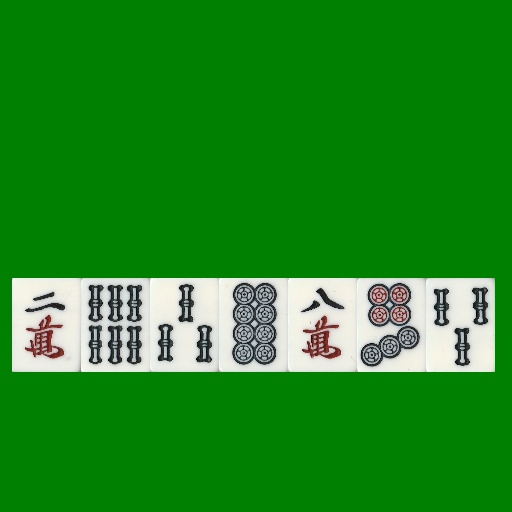2m: (12, 278, 81, 372)
3s: (150, 278, 219, 372), (426, 278, 495, 372)
6s: (81, 278, 150, 372)
7p: (357, 278, 426, 372)
8m: (288, 278, 357, 372)
8p: (219, 278, 288, 372)
